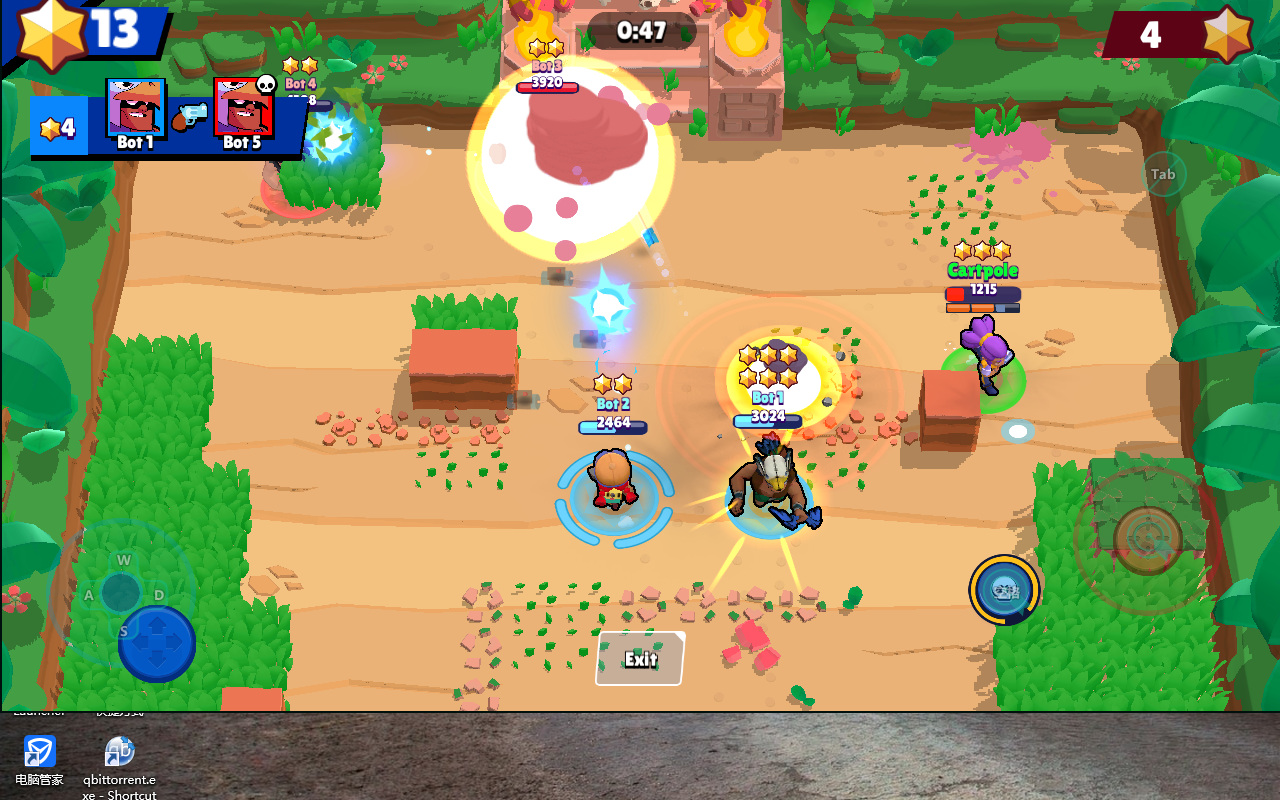current_player: (941, 343, 1027, 415)
